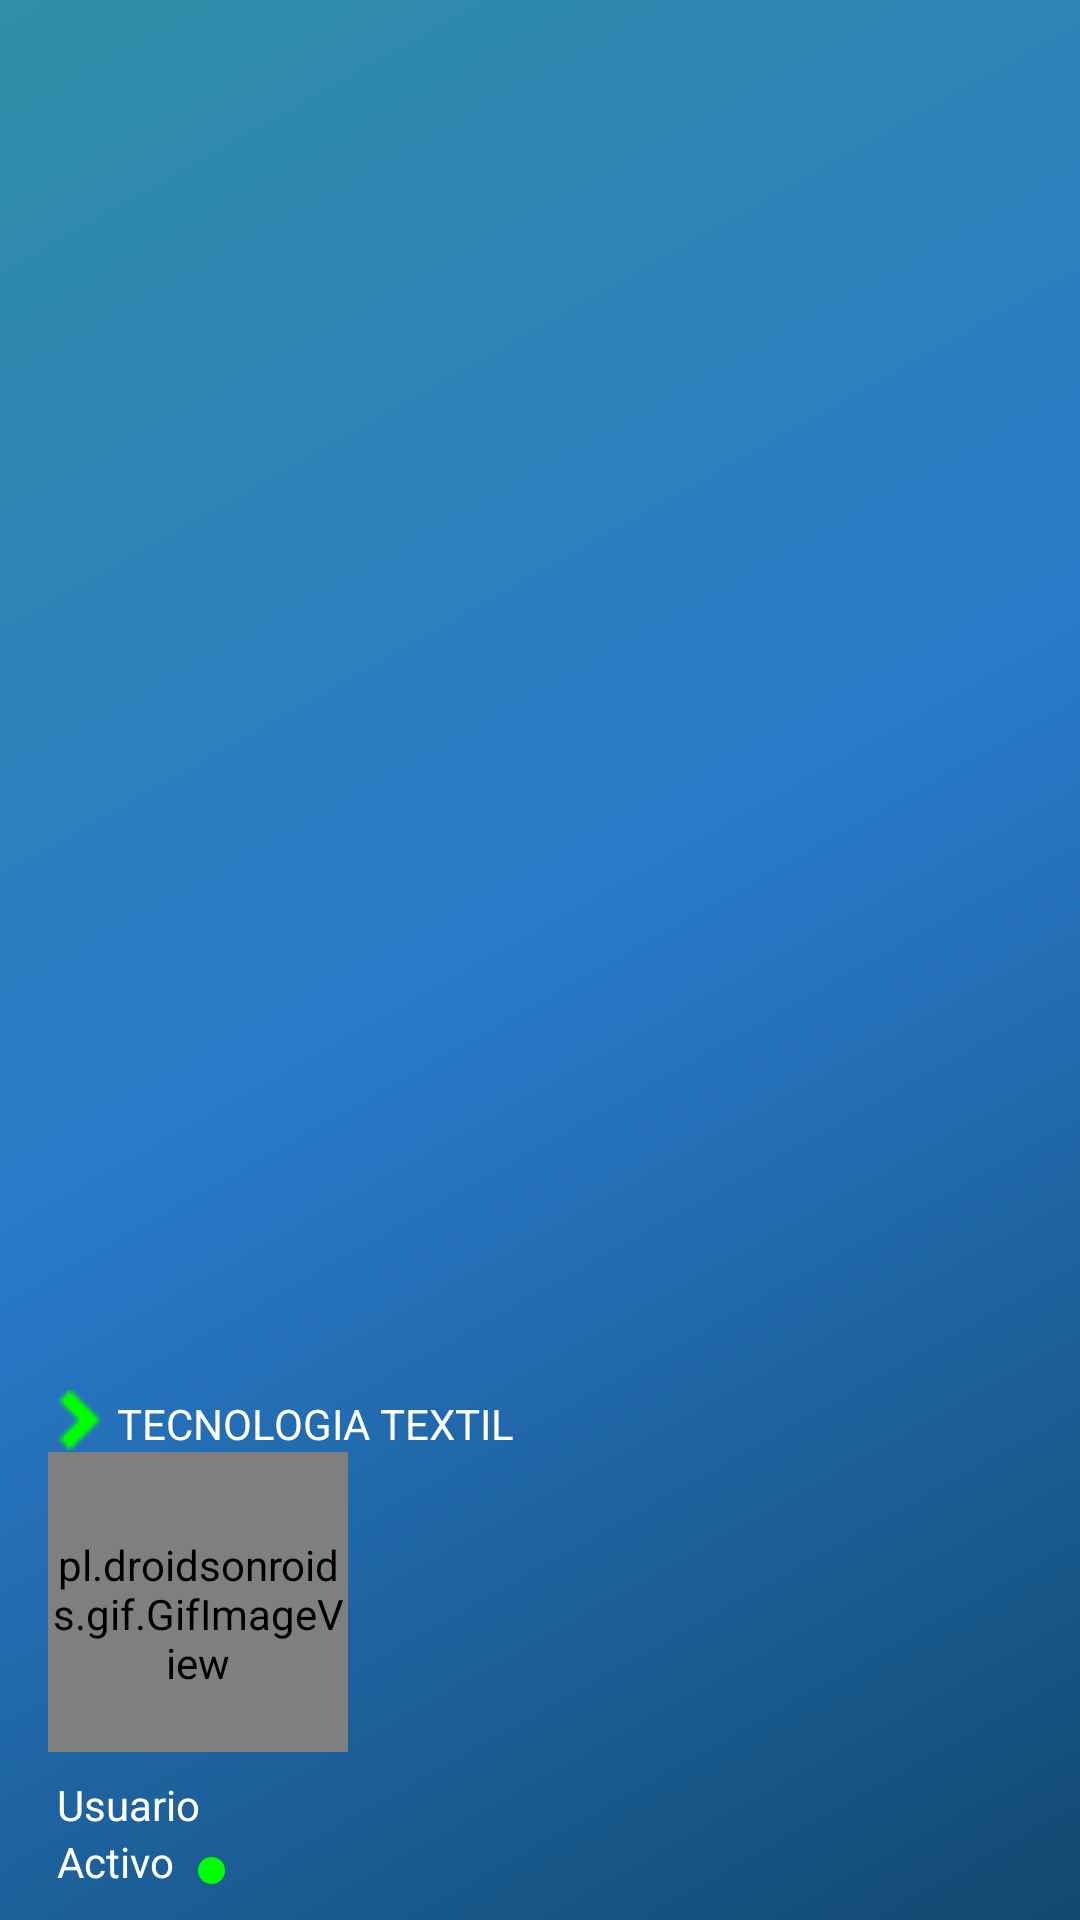

Named icons in this screenshot (1080*1920) and their centers, [x,y]:
flecha: [79,1420]
